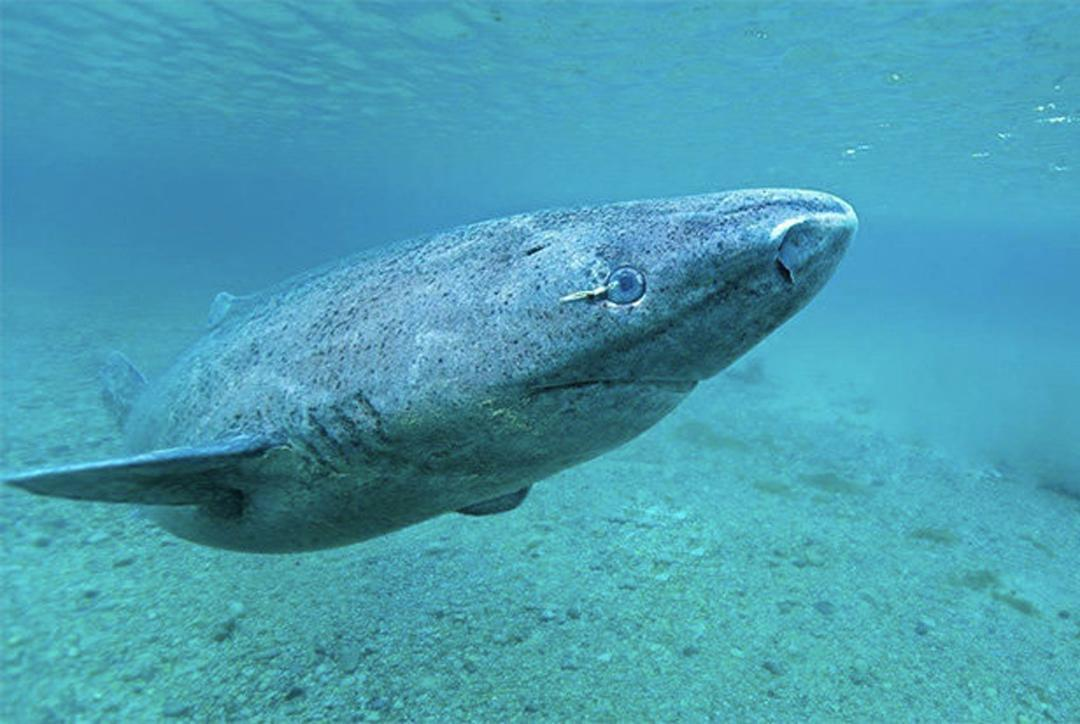fish: (1, 162, 858, 551)
